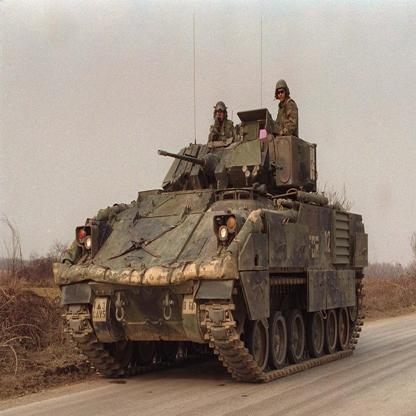Tank: (51, 81, 374, 393)
